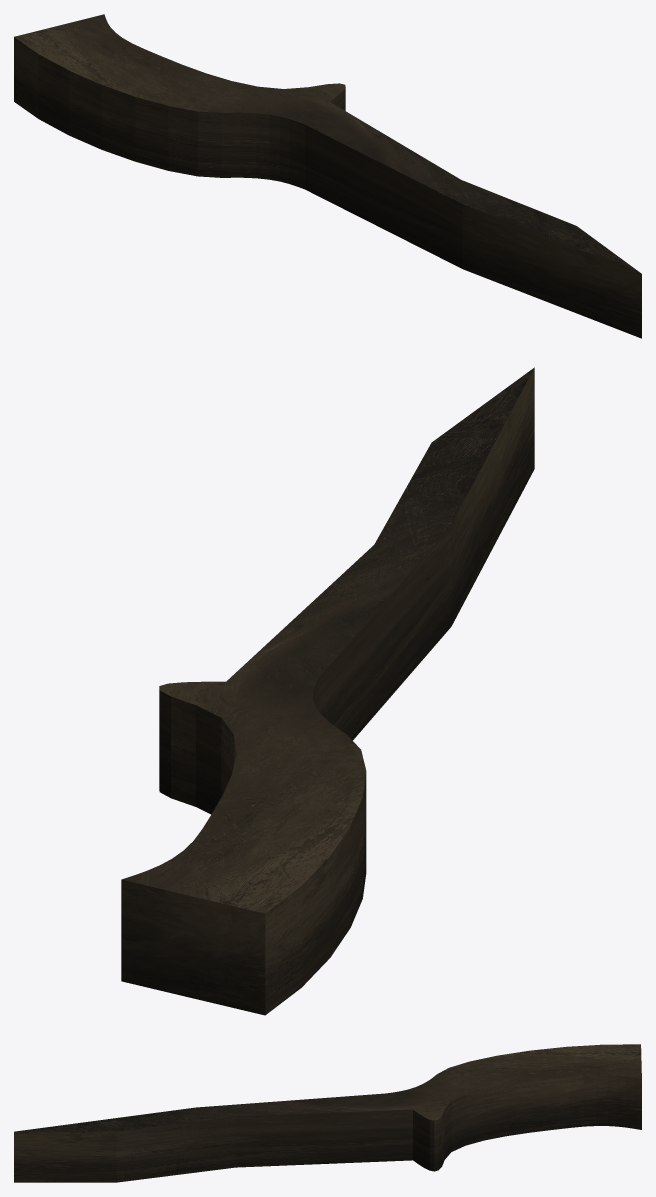
Rendered from marron4.FBX.
The picture shows the model from 3 angles, top to bottom: view 1: azimuth 30°, elevation 25°; view 2: azimuth 150°, elevation 25°; view 3: azimuth 270°, elevation 25°; orthographic projection. The views are drawn at different scales.
Parts seen in each view (by area): view 1: Ligne011; view 2: Ligne011; view 3: Ligne011.
Part boxes in pixels (x1,y1,x2,y2): Ligne011: (14,14,641,338); Ligne011: (121,367,534,1015); Ligne011: (14,1044,641,1182).
Size of the model in its own units: 19.98 by 5.43 by 60.7.
Materials: 1 (1 with a texture image).
